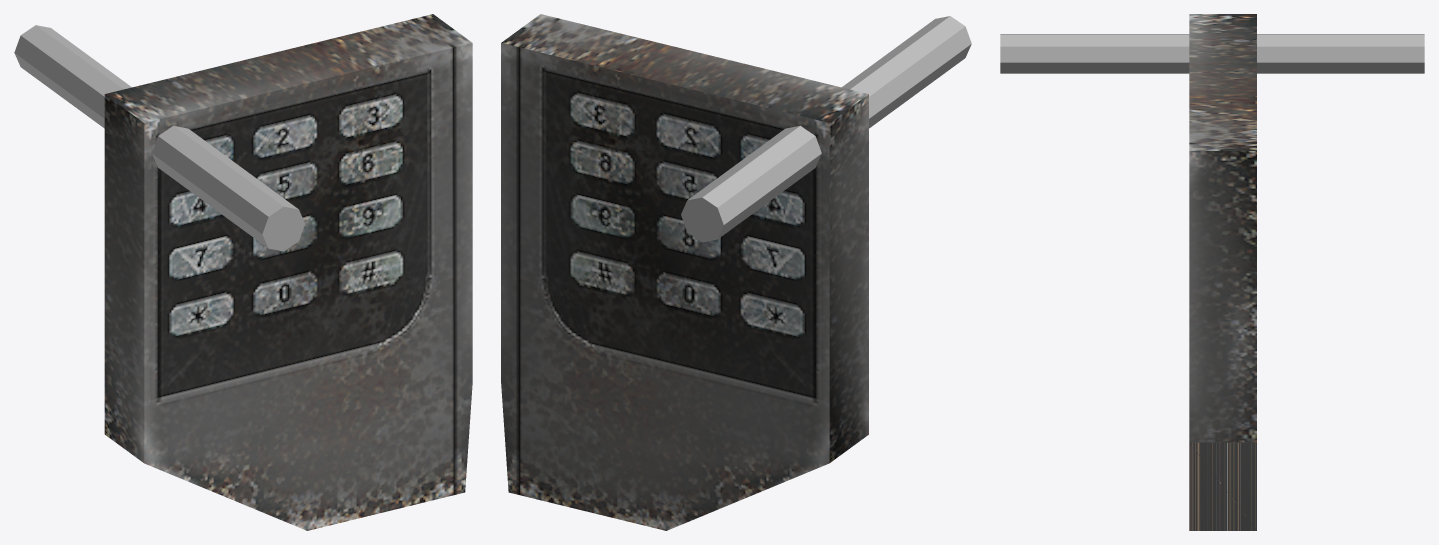
Rendered from panels_door_clickable_joint.dae.
3 views of the same model, side by side, from view 1: azimuth 30°, elevation 25°; view 2: azimuth 150°, elevation 25°; view 3: azimuth 270°, elevation 25° (orthographic). The views are drawn at different scales.
Visible parts, largest first — view 1: panel, _joint_hinge_panel_null_0_50_nocollide_joint1; view 2: panel, _joint_hinge_panel_null_0_50_nocollide_joint1; view 3: panel, _joint_hinge_panel_null_0_50_nocollide_joint1.
Boxes of the visible parts, x1,y1,x2,y2 form: panel: [104, 14, 472, 530]; _joint_hinge_panel_null_0_50_nocollide_joint1: [14, 25, 304, 251]; panel: [501, 14, 868, 530]; _joint_hinge_panel_null_0_50_nocollide_joint1: [681, 16, 971, 242]; panel: [1189, 14, 1256, 530]; _joint_hinge_panel_null_0_50_nocollide_joint1: [1000, 34, 1424, 73].
Size of what is drawn, in the model's own units: 0.1396 by 0.1819 by 0.1826.
